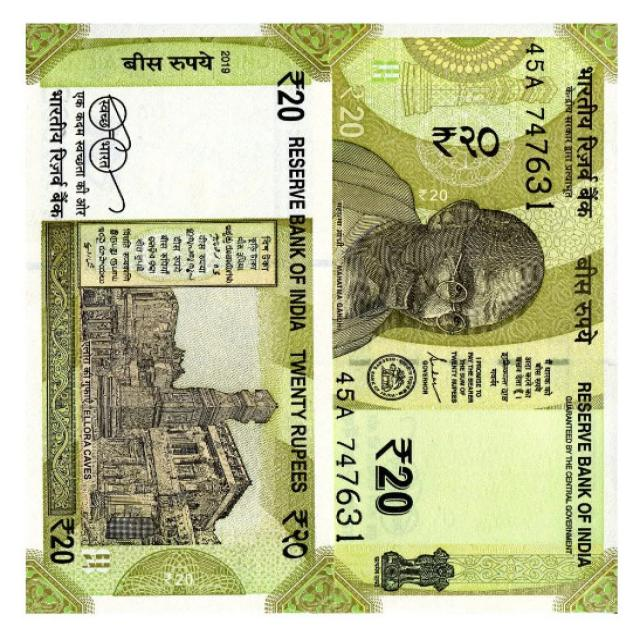20IndianRupees: (30, 25, 332, 615)
